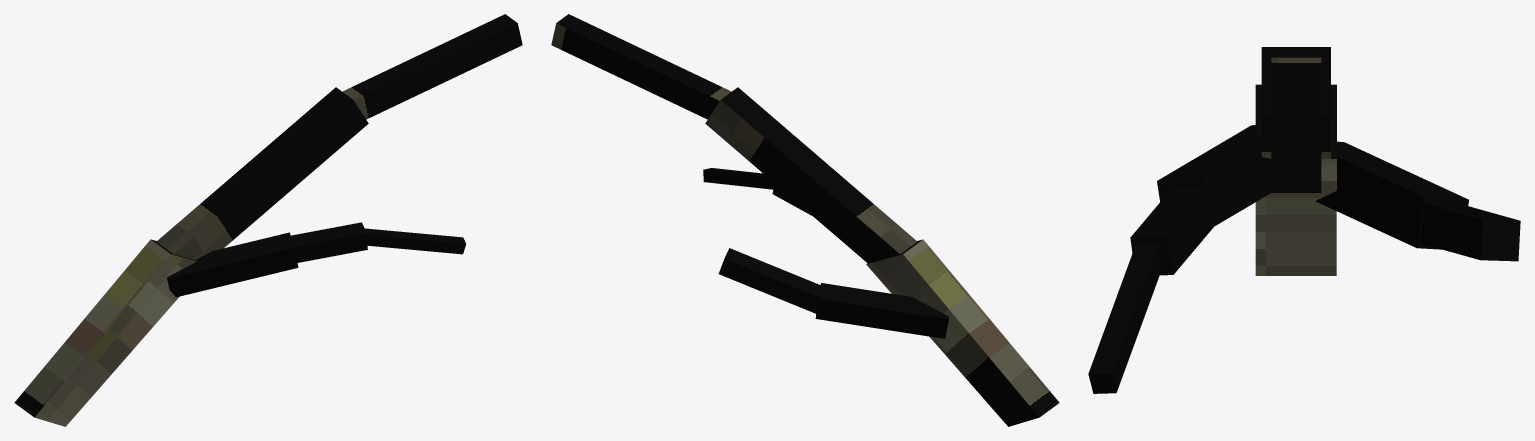
Rendered from larch_twig_branch_up.obj.
The picture shows the model from 3 angles, left to right: view 1: azimuth 30°, elevation 25°; view 2: azimuth 150°, elevation 25°; view 3: azimuth 270°, elevation 25°; orthographic projection. The views are drawn at different scales.
Parts seen in each view (by area): view 1: cube; view 2: cube; view 3: cube.
Boxes of the visible parts, x1,y1,x2,y2 form: cube: [14, 14, 522, 426]; cube: [551, 14, 1059, 426]; cube: [1088, 47, 1520, 393].
Bounding box in the file's own units: 2.26 × 1.27 × 0.8586.
